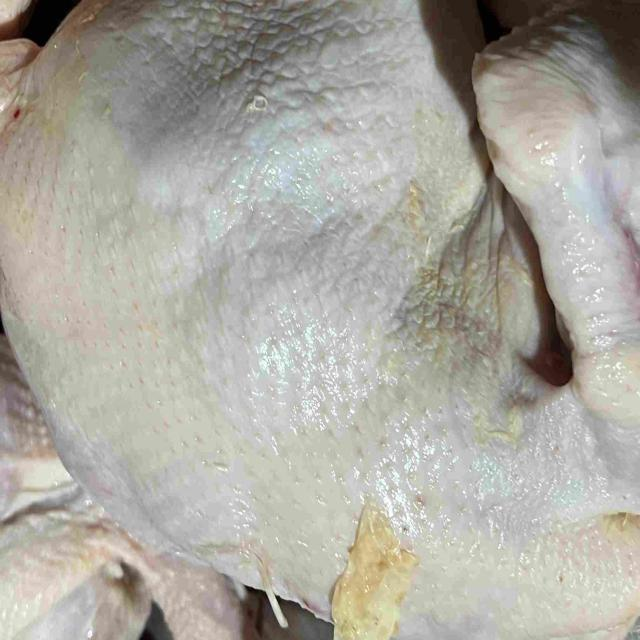back: (0, 0, 542, 628)
wing: (474, 0, 640, 476)
